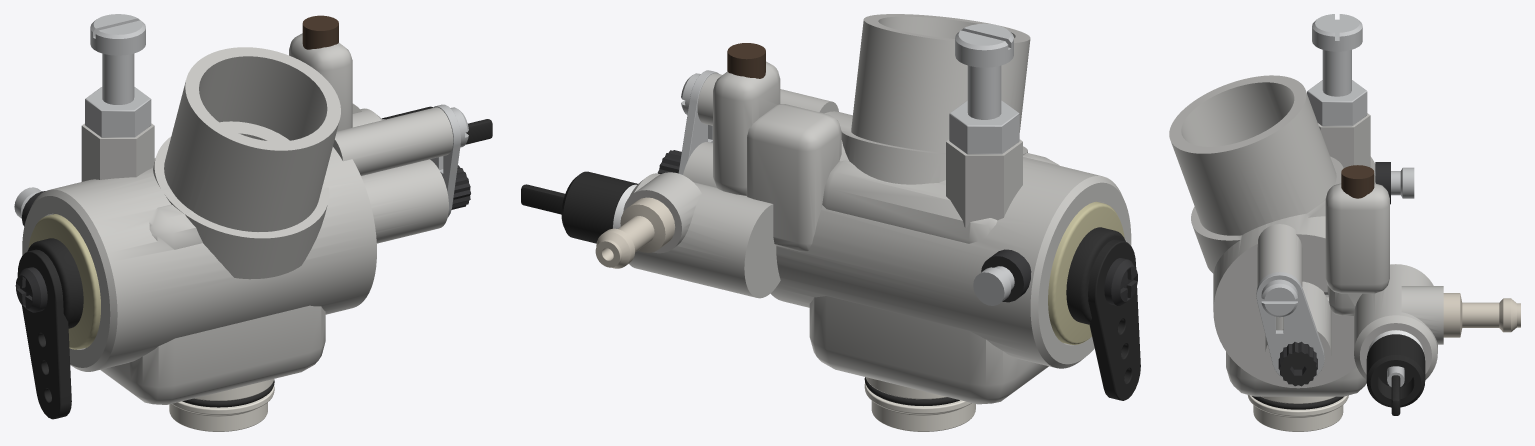
Rendered from carburetor_os61.glb.
3 renders of one model, left to right at view 1: azimuth 30°, elevation 25°; view 2: azimuth 150°, elevation 25°; view 3: azimuth 270°, elevation 25°, orthographic. The views are drawn at different scales.
Visible parts, largest first — view 1: CARB_Body, CARB_Throttle_Arm, CARB_Barrel_End, CARB_Spigot, CARB_Top_Nut, CARB_Top_Screw, CARB_Arm_Hub, CARB_Top_Stud, CARB_Stop_Plate, CARB_Arm_Screw, CARB_Set_Screw, CARB_Spigot_ORing (+2 smaller); view 2: CARB_Body, CARB_Throttle_Arm, CARB_Barrel_End, CARB_Fuel_Nipple, CARB_Spigot, CARB_Needle_Knob, CARB_Top_Nut, CARB_Arm_Hub, CARB_Top_Screw, CARB_Top_Stud, CARB_Stop_Plate, CARB_Arm_Screw (+5 smaller); view 3: CARB_Body, CARB_Needle_Knob, CARB_Stop_Plate, CARB_Spigot, CARB_Fuel_Nipple, CARB_Top_Nut, CARB_Top_Screw, CARB_Idle_Screw, CARB_Top_Stud, CARB_Slot_Screw, CARB_Set_Screw, CARB_Stop_Screw (+3 smaller).
Boxes of the visible parts, x1,y1,x2,y2 form: CARB_Body: (22,33,453,404); CARB_Throttle_Arm: (17,249,71,419); CARB_Barrel_End: (28,214,100,349); CARB_Spigot: (169,379,274,431); CARB_Top_Nut: (85,87,151,137); CARB_Top_Screw: (90,14,145,55); CARB_Arm_Hub: (27,238,83,328); CARB_Top_Stud: (102,53,134,104); CARB_Stop_Plate: (430,104,460,217); CARB_Arm_Screw: (15,267,47,312); CARB_Set_Screw: (302,15,338,49); CARB_Spigot_ORing: (182,379,274,407); CARB_Body: (623,14,1131,404); CARB_Throttle_Arm: (1088,239,1140,400); CARB_Barrel_End: (1048,201,1124,344); CARB_Fuel_Nipple: (595,197,675,268); CARB_Spigot: (864,377,975,431); CARB_Needle_Knob: (561,171,637,243); CARB_Top_Nut: (949,100,1019,154); CARB_Arm_Hub: (1066,227,1125,324); CARB_Top_Screw: (955,23,1013,67); CARB_Top_Stud: (967,65,1001,119); CARB_Stop_Plate: (678,70,718,174); CARB_Arm_Screw: (1104,258,1137,305); CARB_Body: (1169,75,1443,396); CARB_Needle_Knob: (1366,334,1425,407); CARB_Stop_Plate: (1256,272,1324,377); CARB_Spigot: (1247,395,1348,431); CARB_Fuel_Nipple: (1443,293,1520,337); CARB_Top_Nut: (1307,80,1367,126); CARB_Top_Screw: (1312,14,1362,51); CARB_Idle_Screw: (1278,341,1317,386); CARB_Top_Stud: (1322,50,1351,96); CARB_Slot_Screw: (1261,279,1298,317); CARB_Set_Screw: (1341,165,1374,198); CARB_Stop_Screw: (1374,167,1414,198).
Bounding box in the file's own units: 0.0561 × 0.0402 × 0.036.
